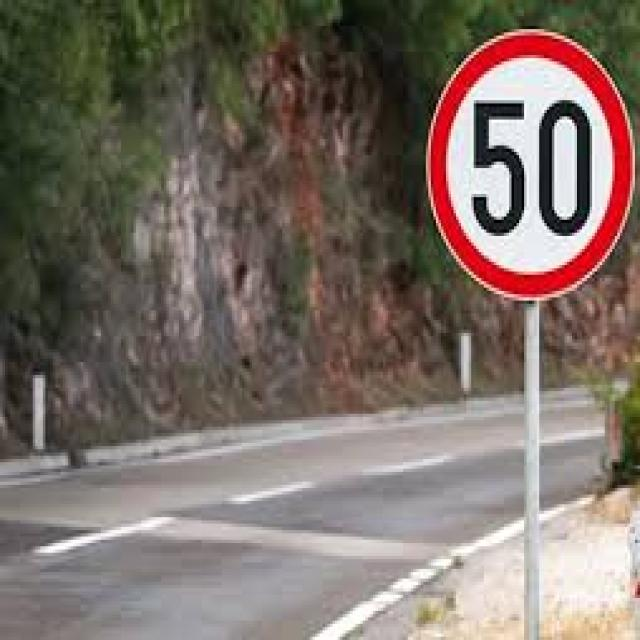Speed limit 50: (425, 24, 639, 305)
